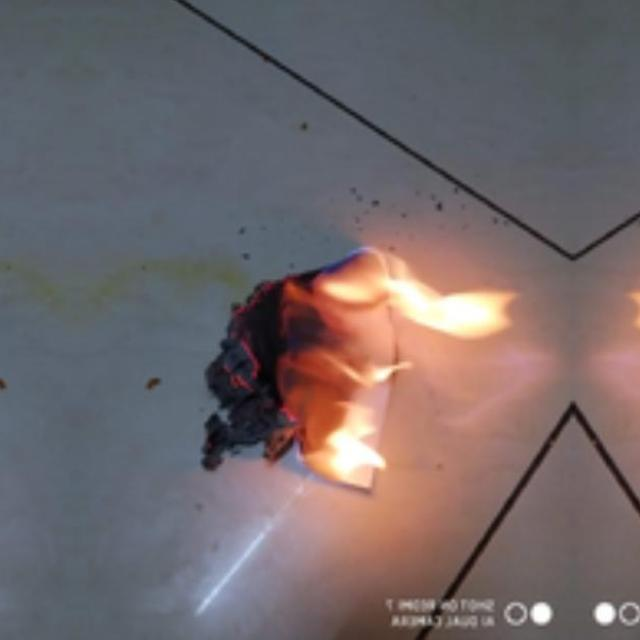smoke: (288, 240, 531, 493)
